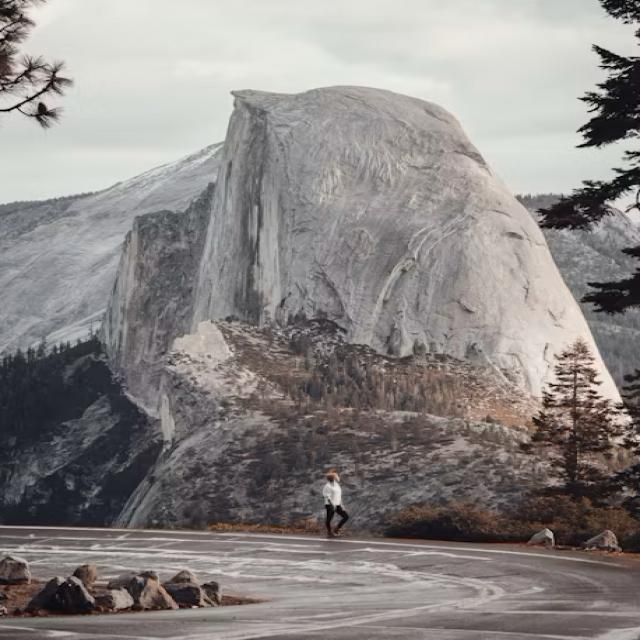Edited images: (296, 457, 368, 542)
